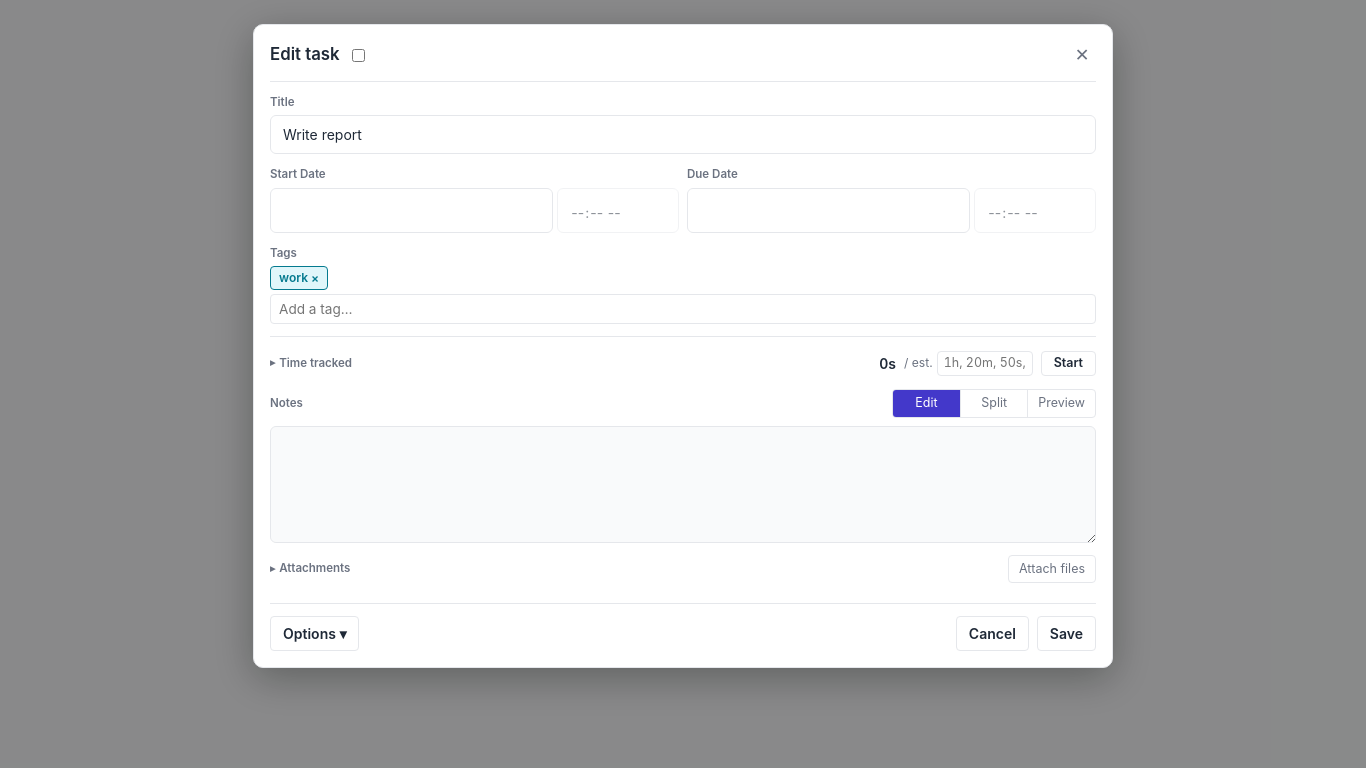
Scenario: TaskEditor close with unsaved changes › cancels the prompt and keeps the editor open
Replace the text in the field labelled "Title" with "Edited title" at (683, 135), box left=270, top=115, right=1096, bottom=154
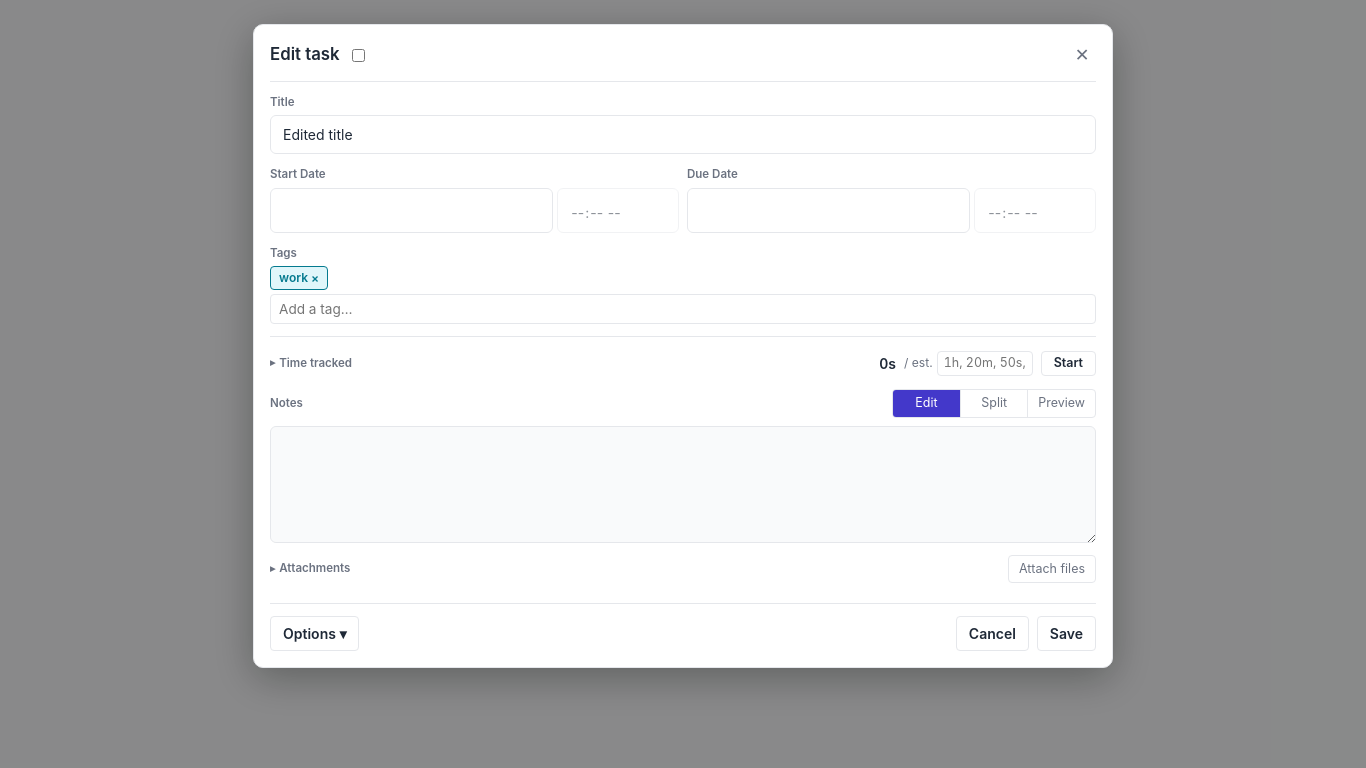
Click the button named "Close" at (1082, 55), box left=1068, top=41, right=1096, bottom=69
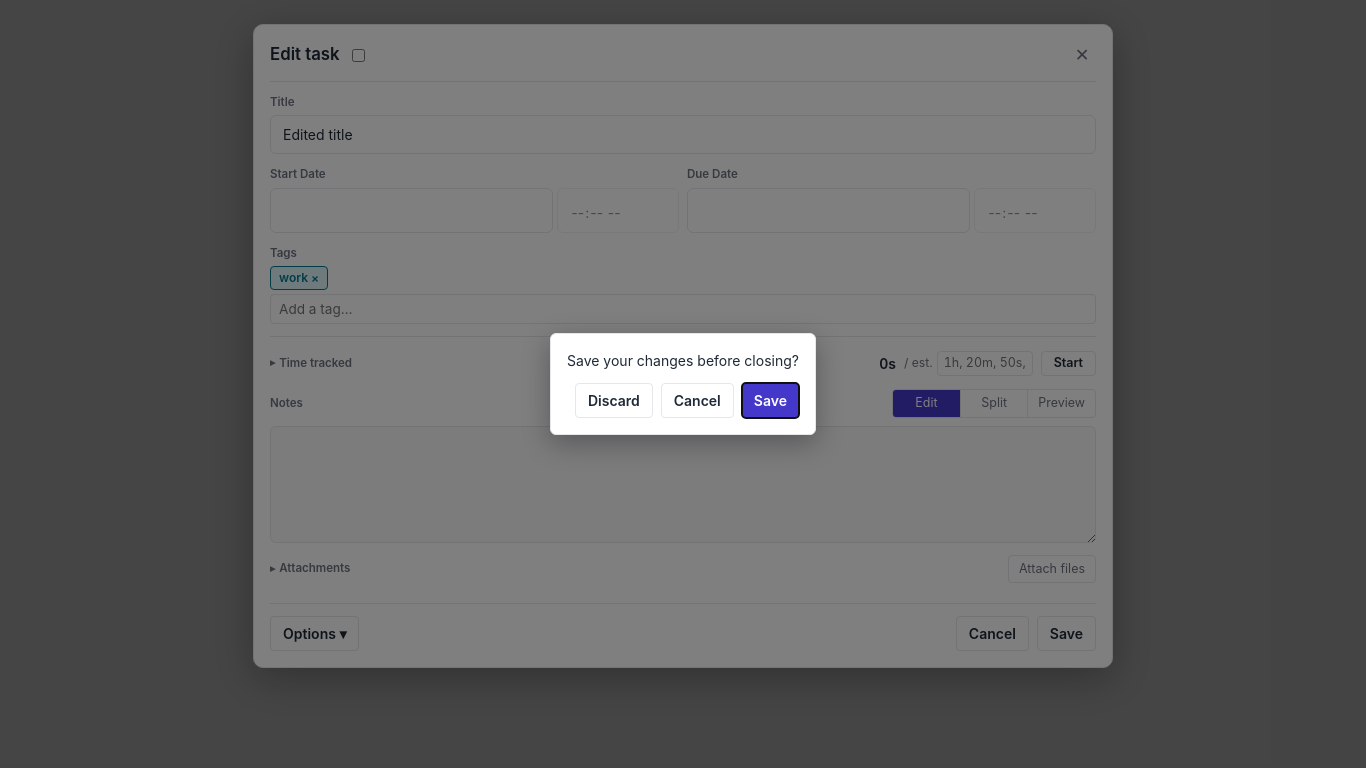
Click the button "Cancel" at (697, 400), box left=661, top=383, right=734, bottom=418
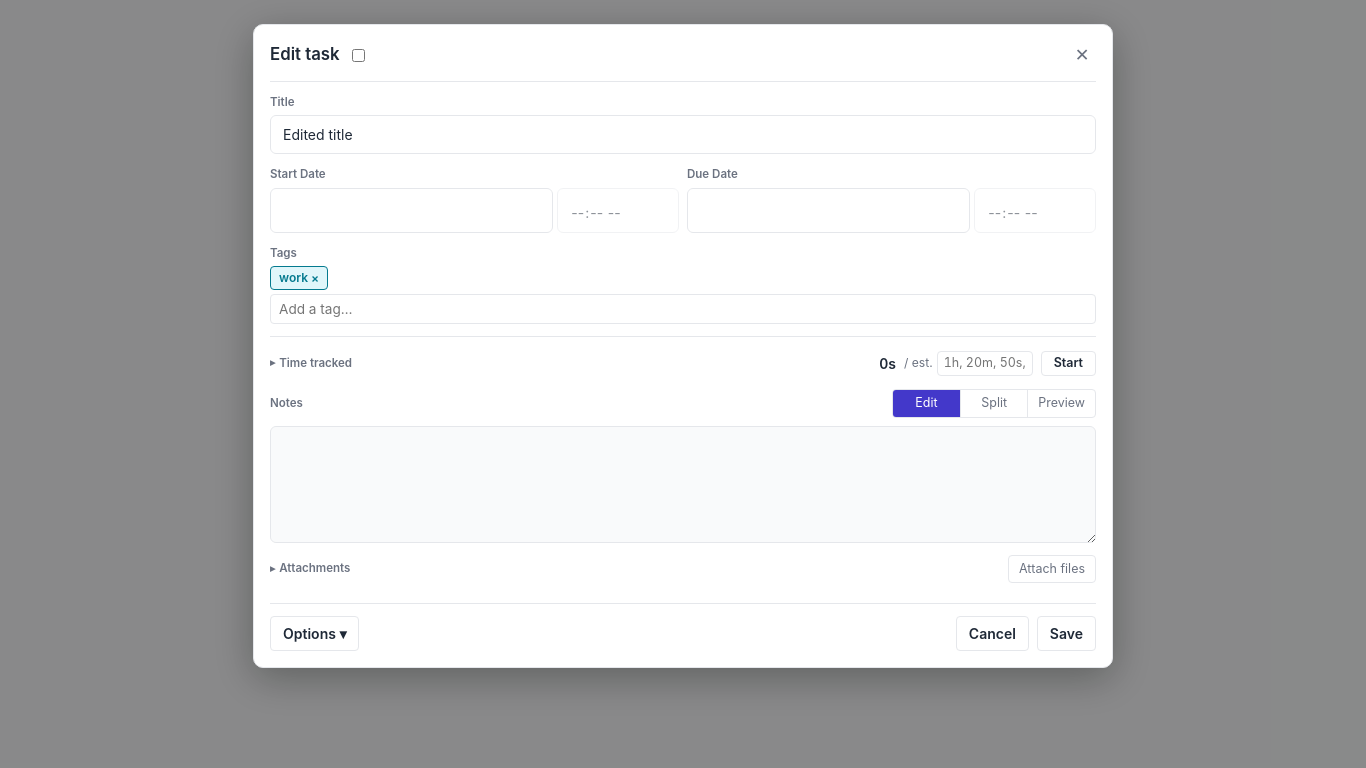
expect the text "Save your changes before closing" is gone: met
